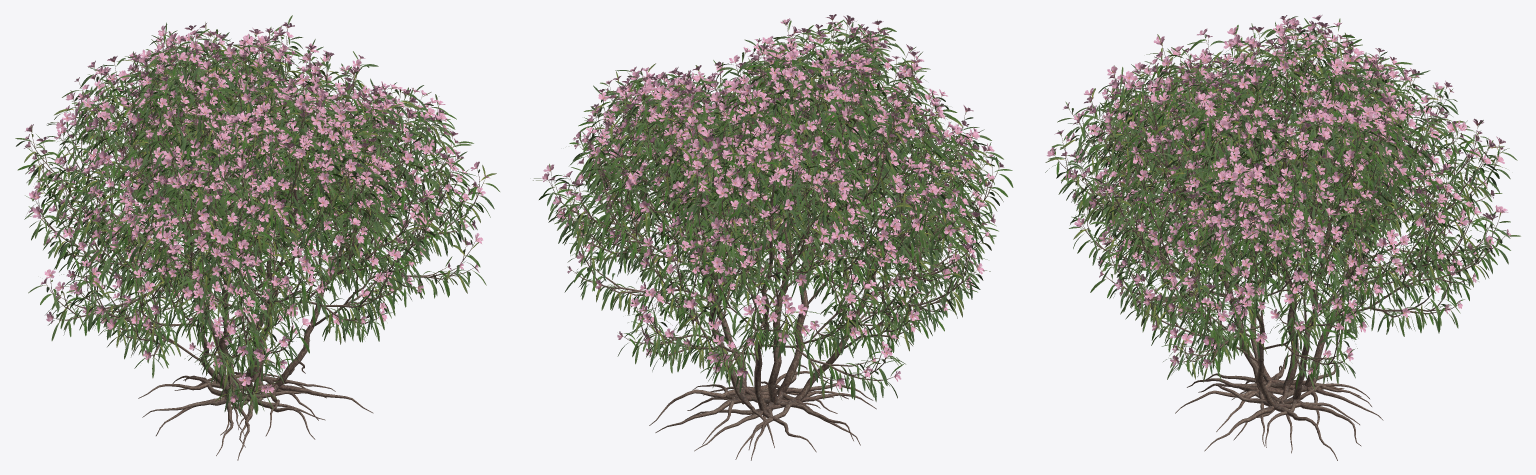
The model's file is MESH_BS09_NeriumOleander_A_LOD0.fbx.
3 views of the same model, side by side, from view 1: azimuth 30°, elevation 25°; view 2: azimuth 150°, elevation 25°; view 3: azimuth 270°, elevation 25° (orthographic). The views are drawn at different scales.
Visible parts, largest first — view 1: MI_LOD0_001, MI_LOD0_002, MI_LOD0; view 2: MI_LOD0_001, MI_LOD0_002, MI_LOD0; view 3: MI_LOD0_001, MI_LOD0_002, MI_LOD0.
Part boxes in pixels (x1=…): MI_LOD0_001: x1=15, y1=15, x2=499, y2=416; MI_LOD0_002: x1=24, y1=22, x2=489, y2=402; MI_LOD0: x1=29, y1=27, x2=485, y2=460; MI_LOD0_001: x1=533, y1=19, x2=1013, y2=401; MI_LOD0_002: x1=542, y1=14, x2=1004, y2=388; MI_LOD0: x1=548, y1=21, x2=999, y2=460; MI_LOD0_001: x1=1045, y1=16, x2=1520, y2=389; MI_LOD0_002: x1=1046, y1=15, x2=1510, y2=374; MI_LOD0: x1=1054, y1=21, x2=1505, y2=460.
Bounding box in the file's own units: 368 × 325 × 371.
